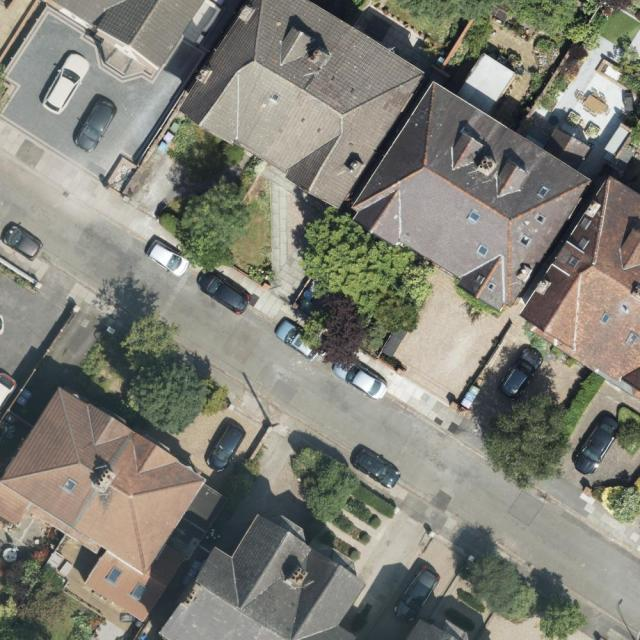roof: (0, 381, 233, 625), (354, 82, 595, 312), (181, 0, 428, 207), (161, 511, 366, 640), (521, 174, 640, 392), (48, 0, 210, 76), (407, 616, 463, 640)
skylight: (105, 564, 124, 585), (464, 207, 483, 227), (130, 583, 147, 603), (62, 477, 80, 495), (515, 231, 533, 249), (534, 186, 551, 203), (567, 253, 581, 269), (578, 217, 593, 231), (476, 241, 489, 257), (533, 214, 549, 227), (597, 310, 610, 326), (576, 237, 589, 251), (627, 331, 639, 346), (267, 92, 281, 103), (473, 274, 485, 285), (487, 280, 495, 291)
